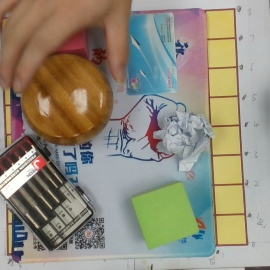card: (123, 12, 181, 94)
chess: (22, 55, 113, 147)
